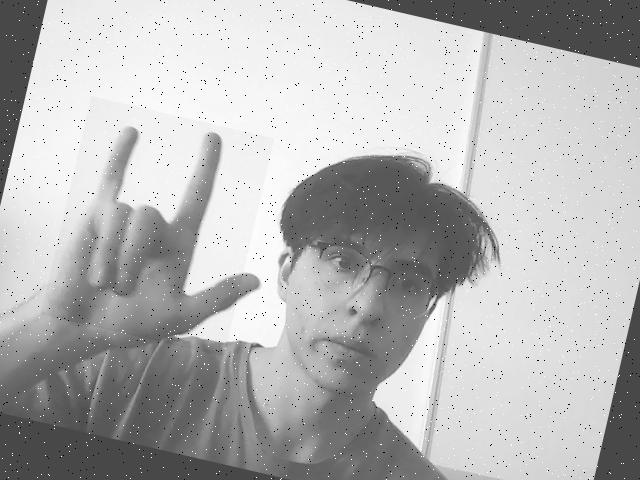I_Love_You: (40, 96, 274, 356)
